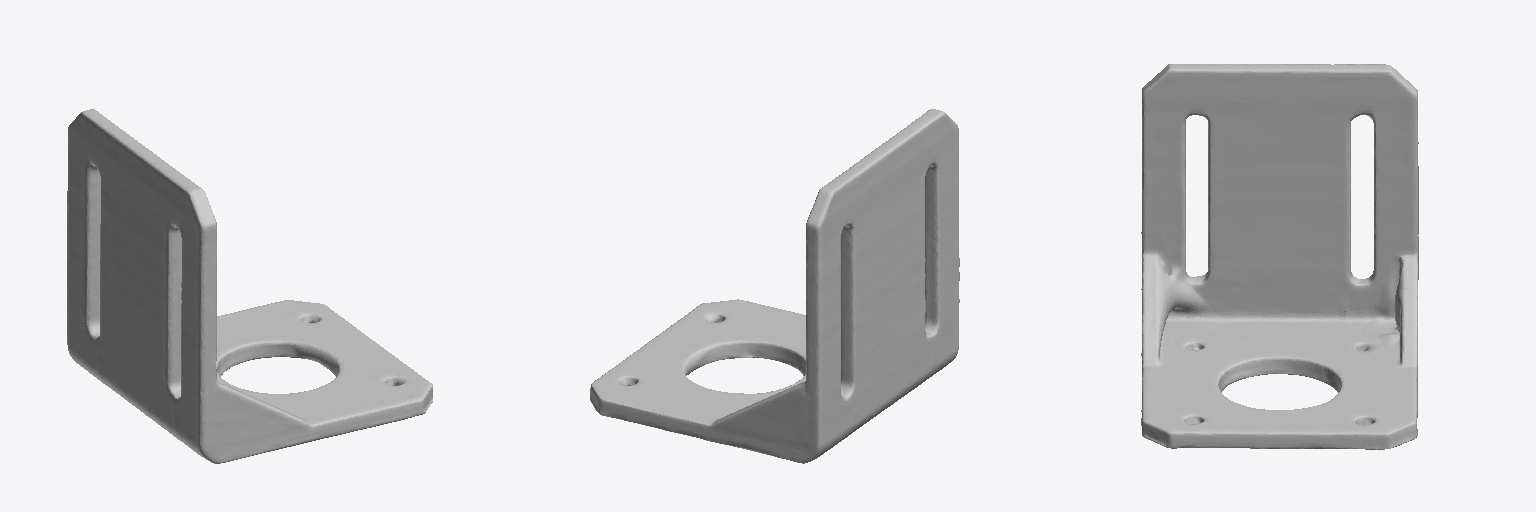
Rendered from nema17_holder2_collision.obj.
The picture shows the model from 3 angles: view 1: azimuth 30°, elevation 25°; view 2: azimuth 150°, elevation 25°; view 3: azimuth 270°, elevation 25°; orthographic projection.
Parts seen in each view (by area): view 1: nema17_holder2; view 2: nema17_holder2; view 3: nema17_holder2.
Part boxes in pixels (x1,y1,x2,y2): nema17_holder2: (67, 109, 432, 463); nema17_holder2: (590, 109, 959, 463); nema17_holder2: (1141, 64, 1418, 449).
Bounding box in the file's own units: 0.0515 × 0.0532 × 0.0499.